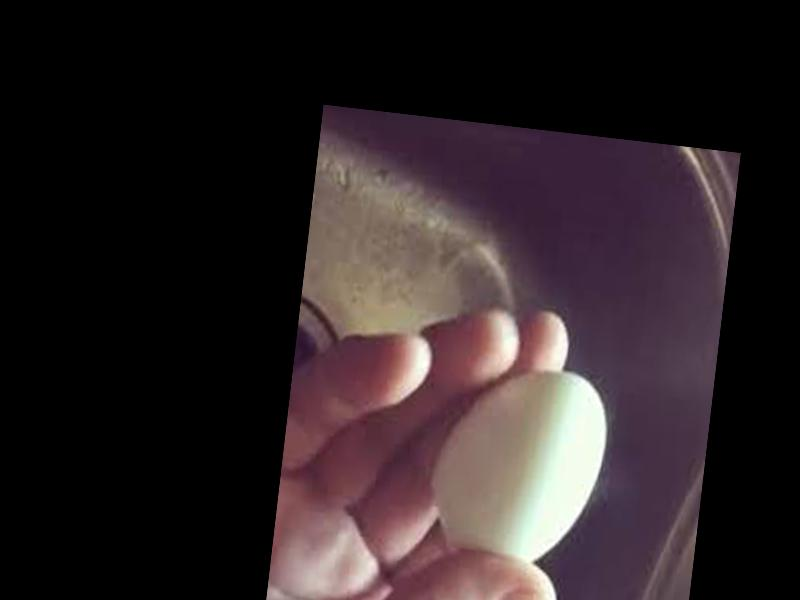Eggs: (428, 362, 612, 573)
